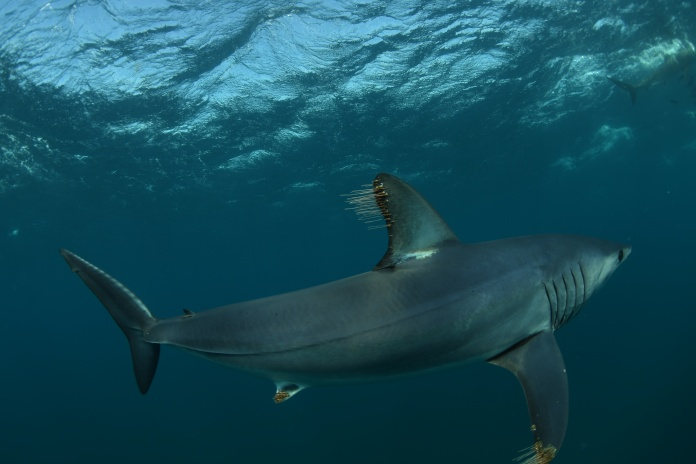Mako: (37, 171, 650, 464)
